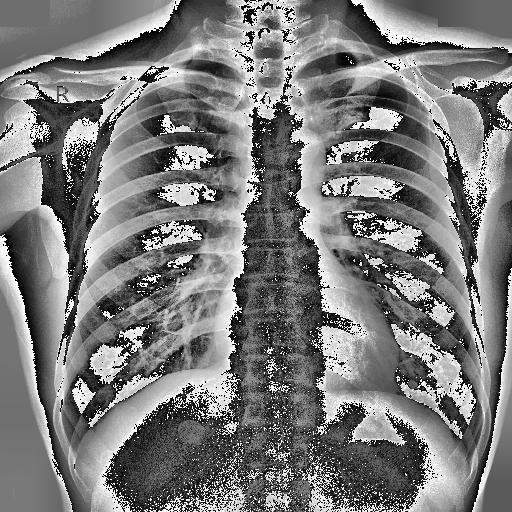2- Calcification: (407, 379, 418, 390)
8- Nodule-Mass: (406, 378, 418, 390), (406, 380, 420, 390)
